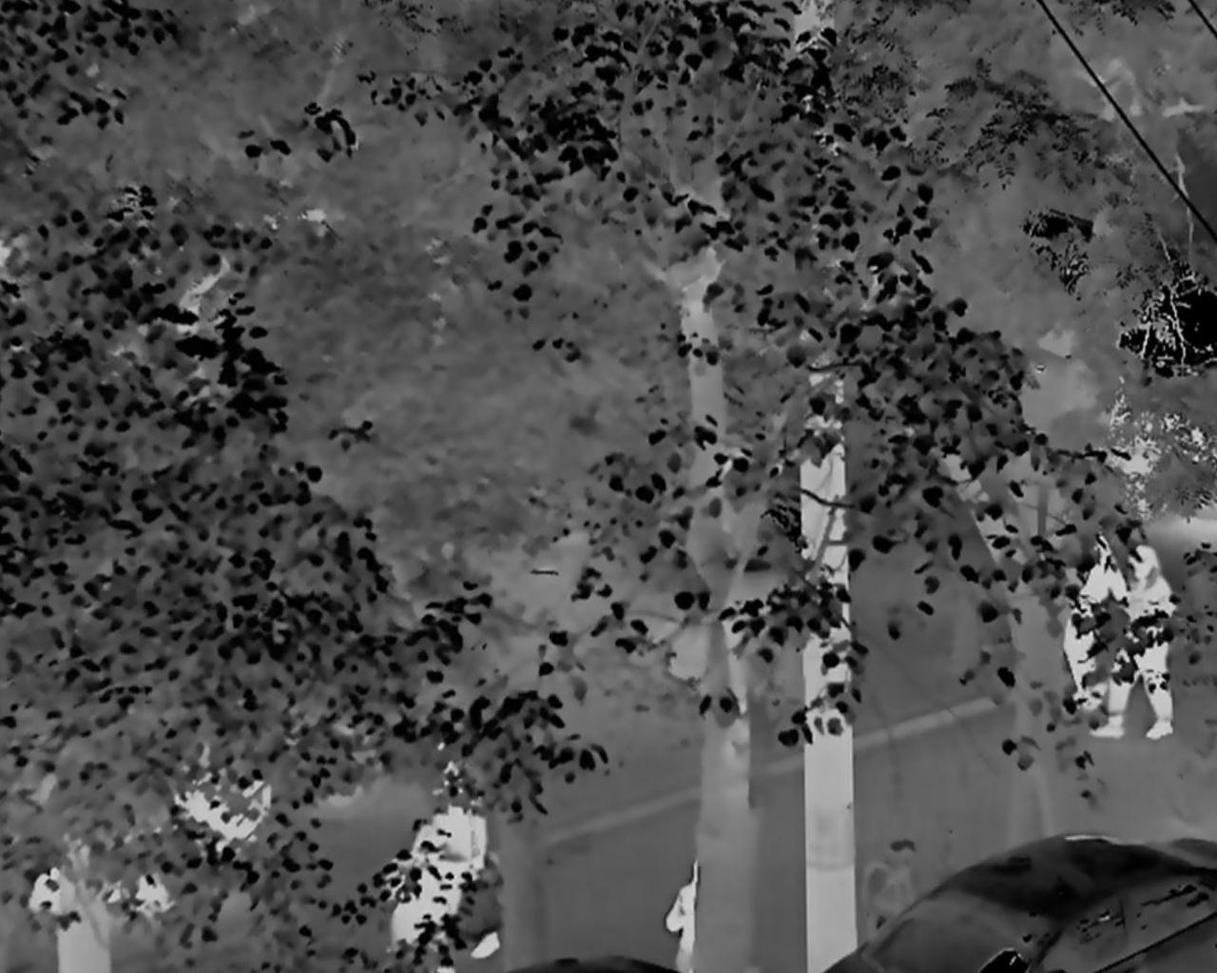person: (1094, 541, 1180, 737), (395, 759, 481, 951), (1059, 531, 1105, 716), (661, 854, 708, 973)
